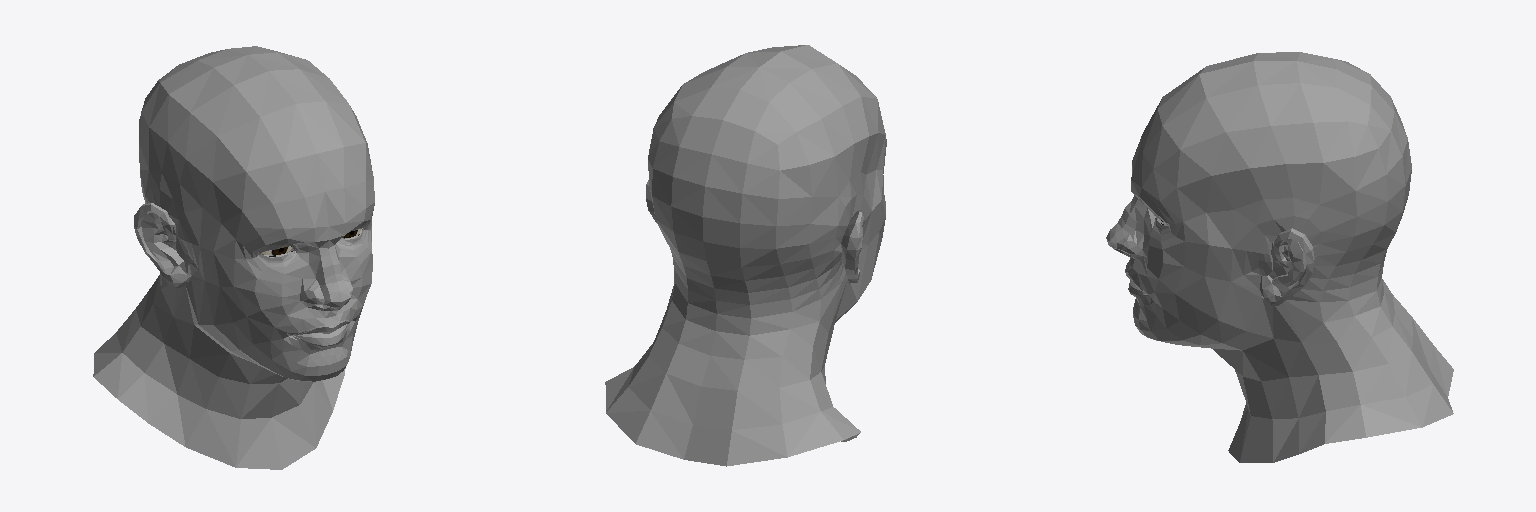
The picture shows the model from 3 angles: view 1: azimuth 30°, elevation 25°; view 2: azimuth 150°, elevation 25°; view 3: azimuth 270°, elevation 25°; orthographic projection.
Parts seen in each view (by area): view 1: head; view 2: head; view 3: head.
Part boxes in pixels (bbox=[...]): head: bbox=[93, 46, 374, 469]; head: bbox=[605, 45, 886, 466]; head: bbox=[1106, 52, 1453, 462].
Bounding box in the file's own units: 21.08 × 32.92 × 26.61.
4 materials, 2 textured.